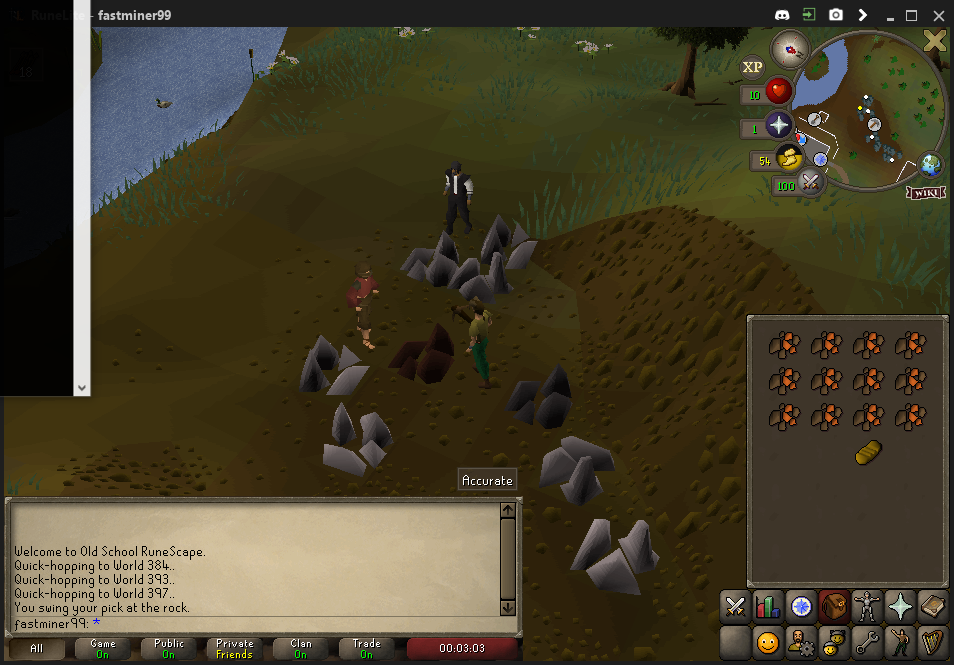depleted: (505, 360, 581, 436)
ore: (390, 315, 455, 389)
